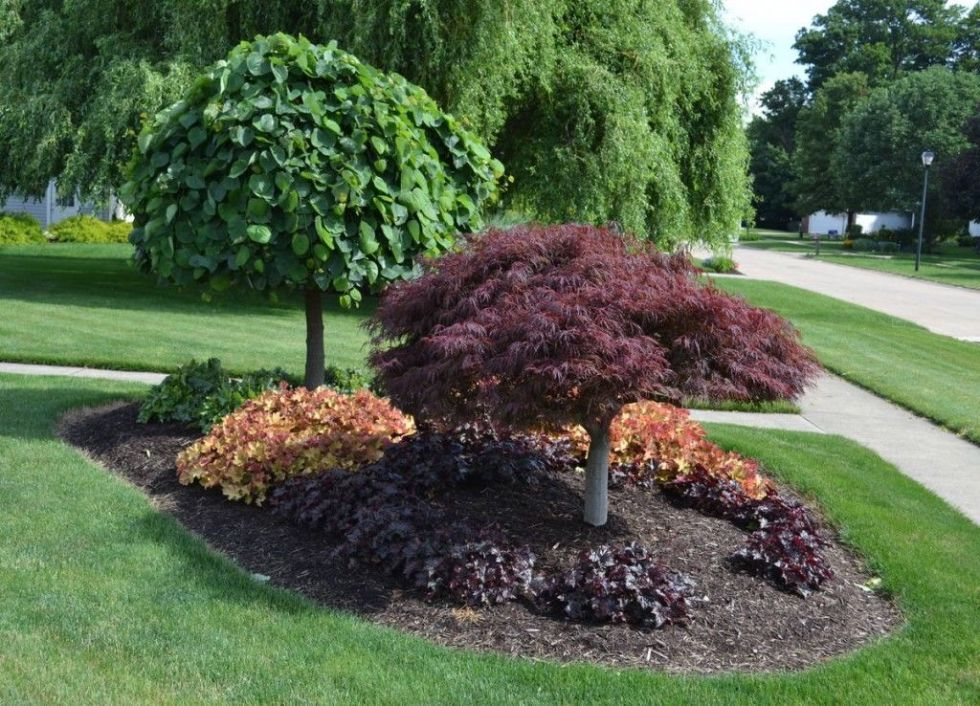tree: (118, 31, 505, 403), (377, 224, 818, 520)
